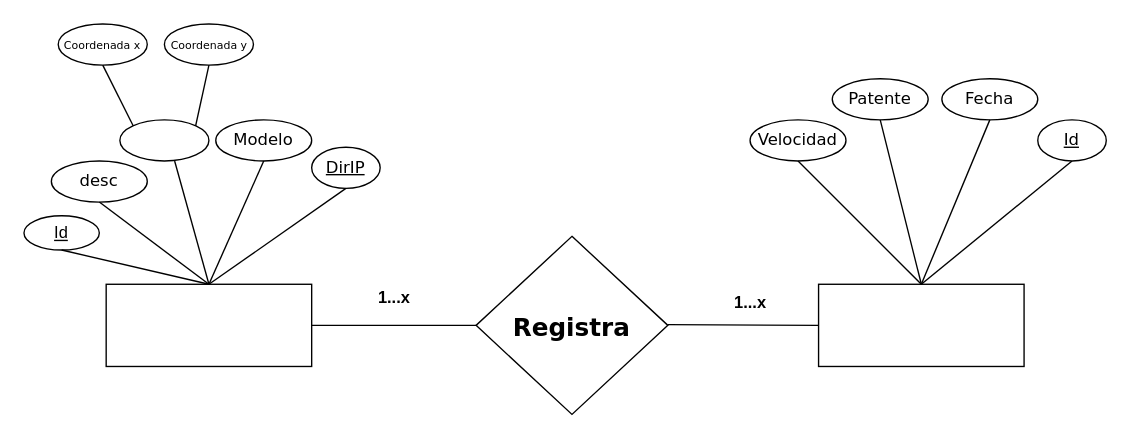
Image size: 1130x438. Some labels were removed from this diagram. Each missing label, with the centre of its shape:
"Cámara" belongs at point (208, 324).
"Registro" belongs at point (920, 324).
"Ubi" belongs at point (164, 140).
